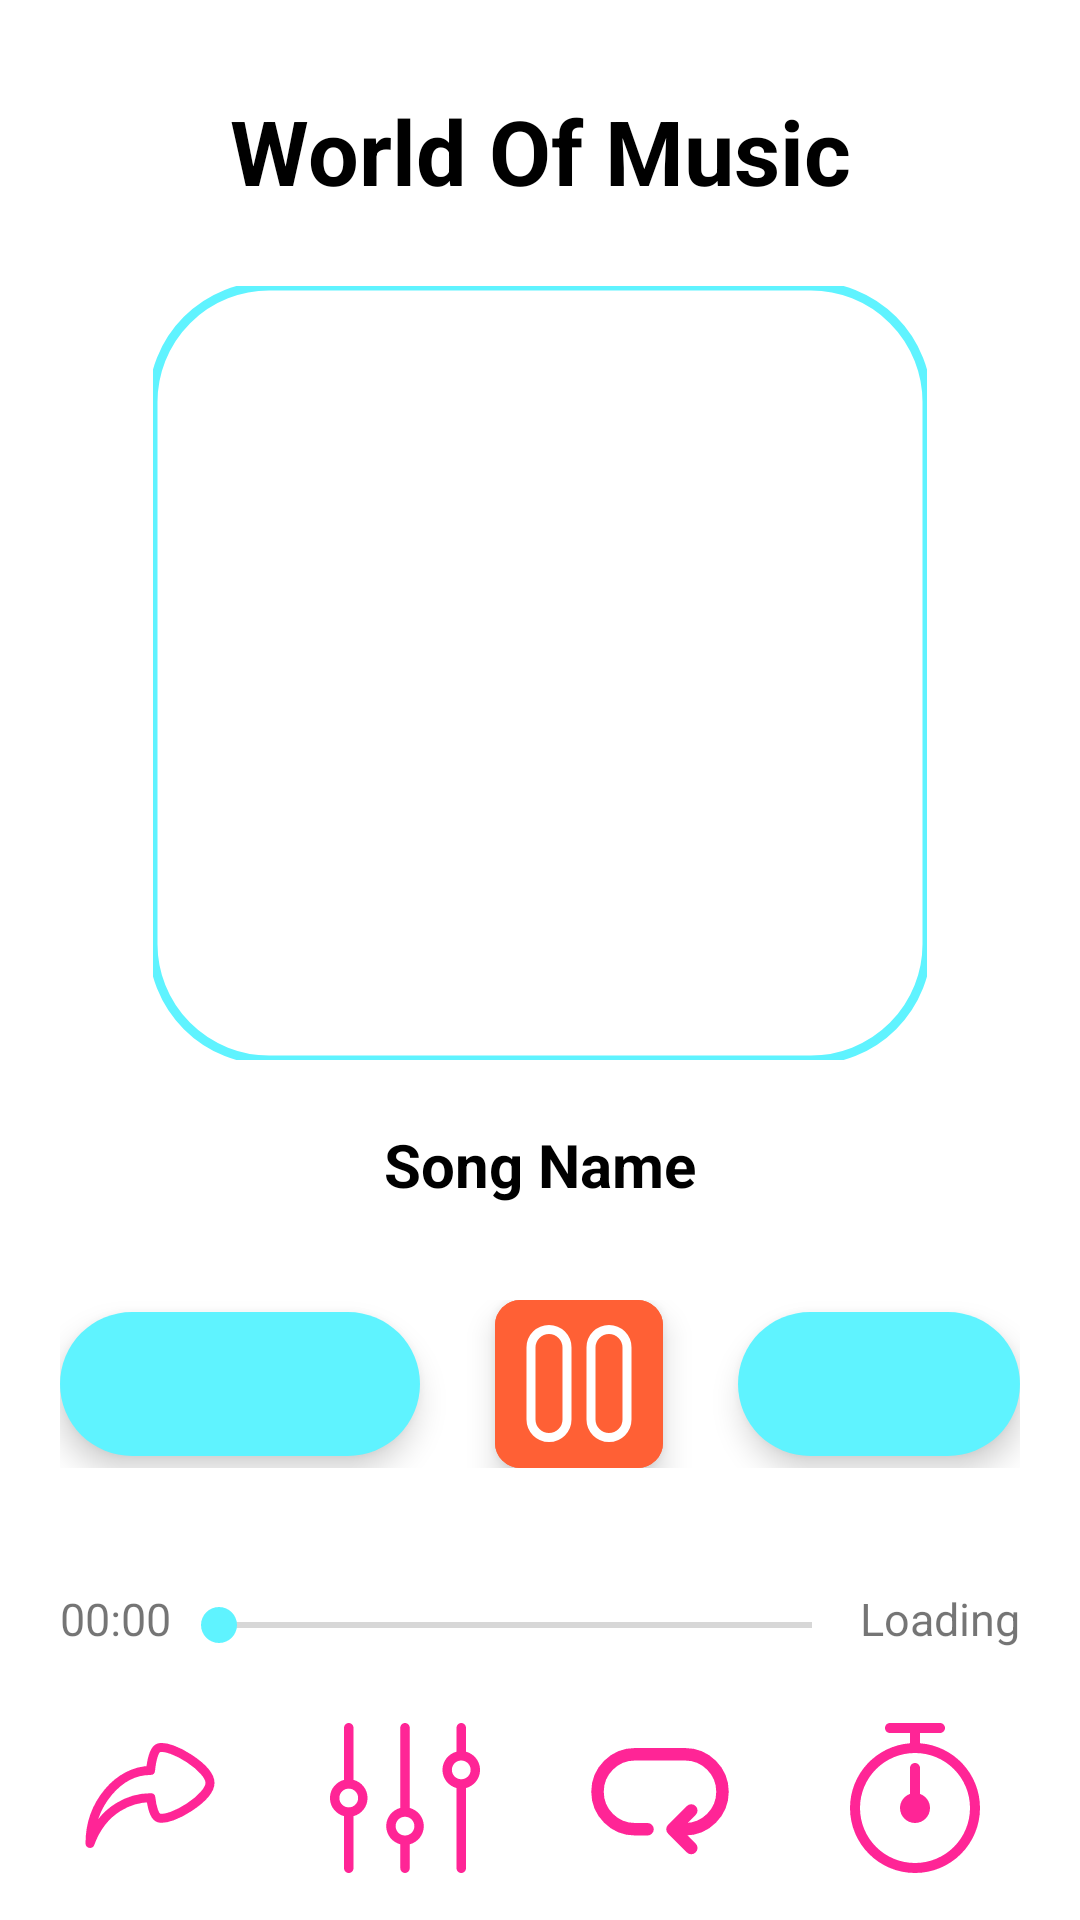

Icon click points for this 1080 × 1920 phone screenshot, format [x,y]:
equalizer button: [405,1798]
pause: [579,1384]
Repeat Button: [660,1801]
Share Button: [150,1795]
Timer Button: [915,1798]
